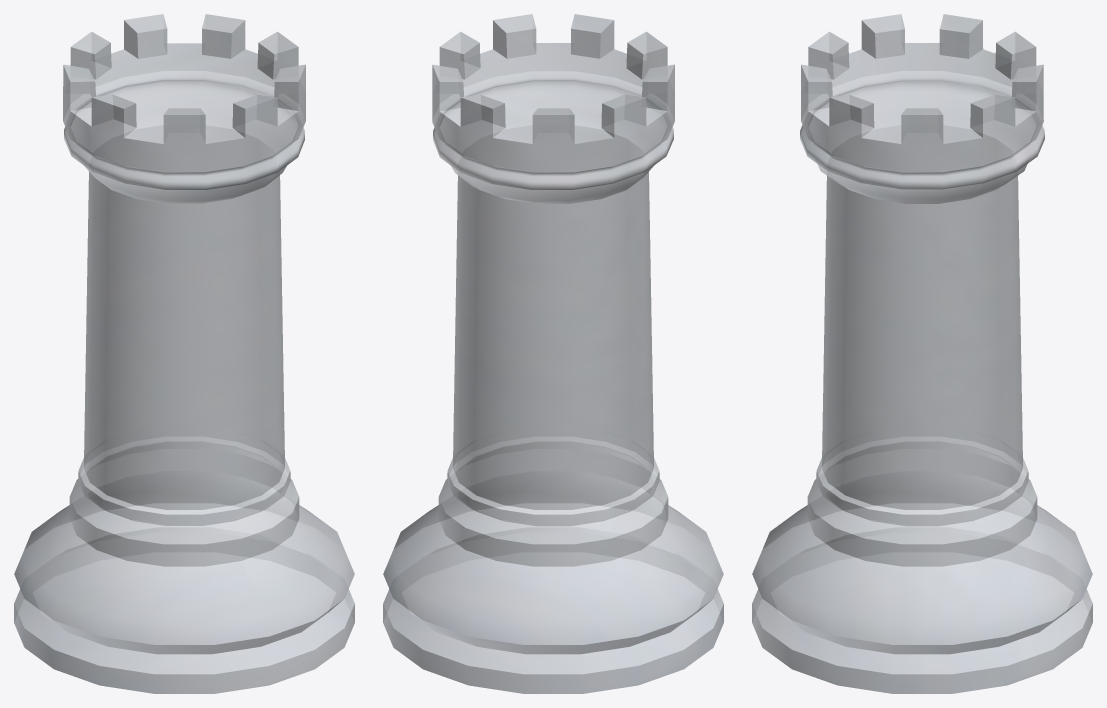
The model's file is Rook.glb.
The picture shows the model from 3 angles, left to right: view 1: azimuth 30°, elevation 25°; view 2: azimuth 150°, elevation 25°; view 3: azimuth 270°, elevation 25°; orthographic projection.
Parts seen in each view (by area): view 1: Chess_07 - Default_0; view 2: Chess_07 - Default_0; view 3: Chess_07 - Default_0.
Part boxes in pixels (x1,y1,x2,y2): Chess_07 - Default_0: (14, 14, 354, 693); Chess_07 - Default_0: (383, 14, 723, 693); Chess_07 - Default_0: (752, 14, 1092, 693).
Size of the model in its own units: 0.4458 by 0.8382 by 0.4527.
1 material, 1 textured.
